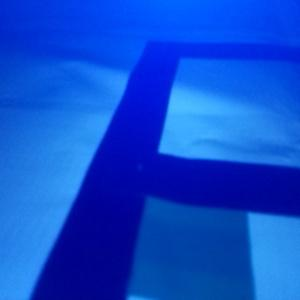bottom_right: (89, 169, 253, 300)
